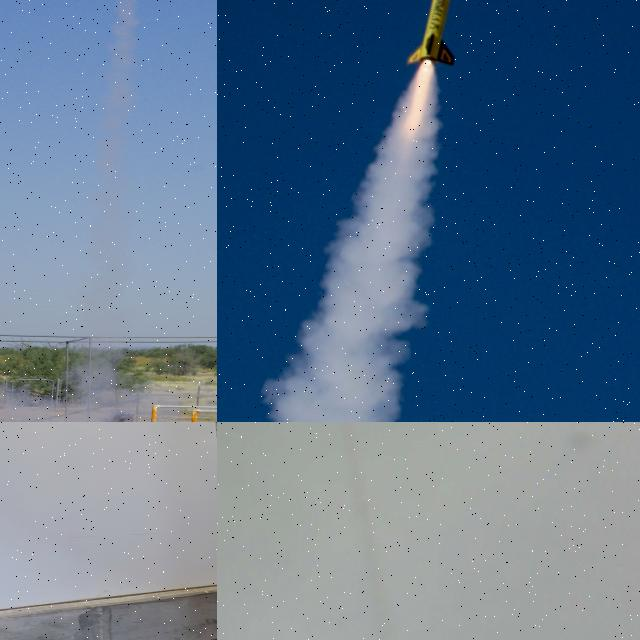Rocket: (405, 0, 463, 68)
